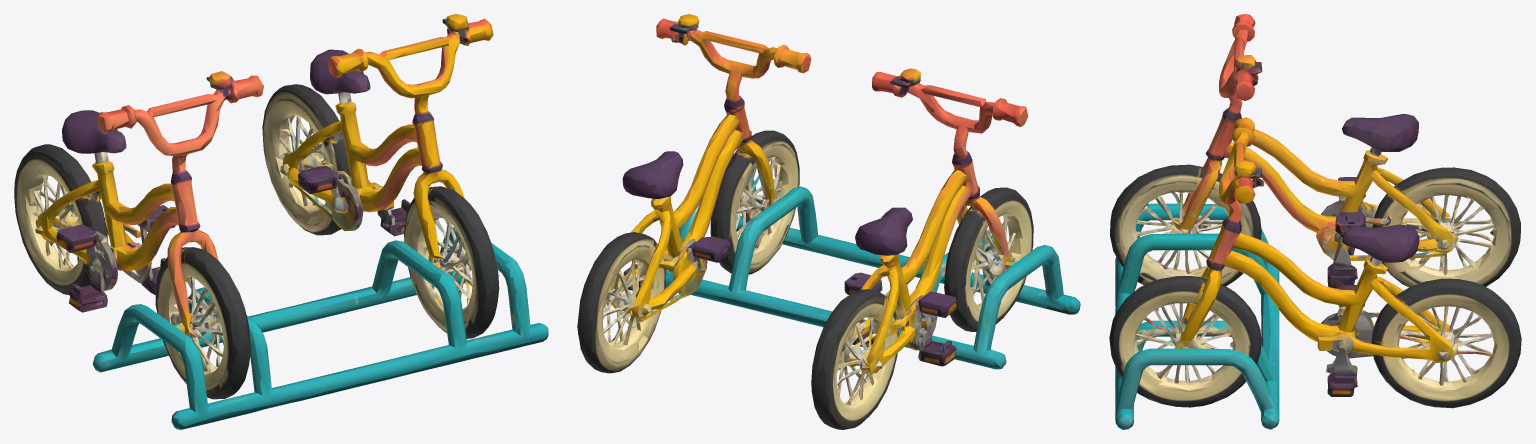
Rendered from BicycleRack.glb.
3 views of the same model, side by side, from view 1: azimuth 30°, elevation 25°; view 2: azimuth 150°, elevation 25°; view 3: azimuth 270°, elevation 25° (orthographic). The views are drawn at different scales.
Parts seen in each view (by area): view 1: geometry_0; view 2: geometry_0; view 3: geometry_0.
Boxes of the visible parts, box(x1,y1,x2,y2) form: geometry_0: box(14, 14, 548, 429); geometry_0: box(577, 14, 1080, 429); geometry_0: box(1109, 14, 1521, 429).
Size of the model in its own units: 0.9 by 0.6306 by 0.9012.
Materials: 1 (1 with a texture image).
